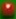red: (0, 0, 16, 19)
